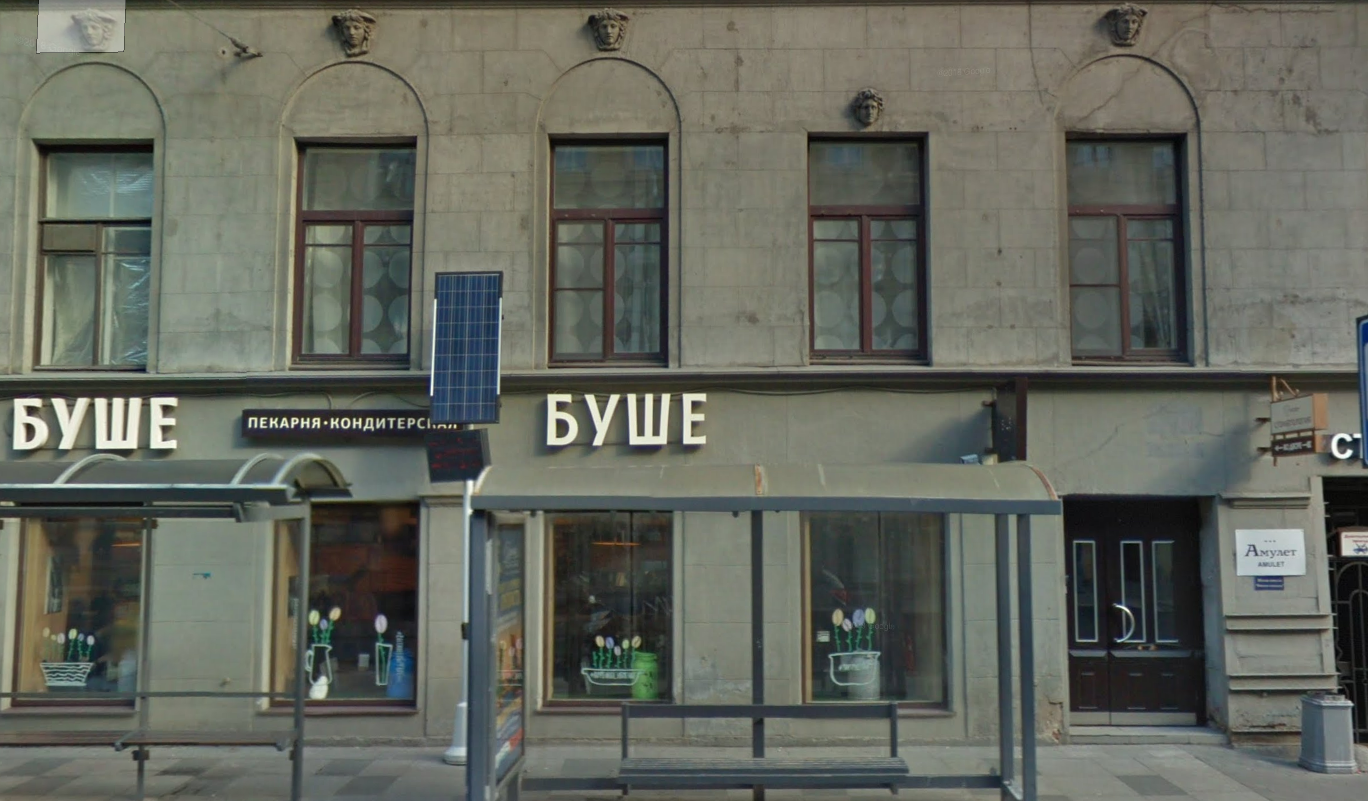cantilever: (1242, 362, 1325, 468), (971, 370, 1036, 476)
door: (1065, 497, 1209, 737)
signboard: (533, 385, 721, 453), (10, 388, 184, 457), (248, 408, 465, 446)
window: (801, 508, 955, 710), (807, 133, 934, 369), (542, 131, 669, 365), (277, 503, 417, 713), (1064, 130, 1194, 355), (35, 138, 154, 369), (538, 512, 675, 711), (298, 136, 406, 365)
